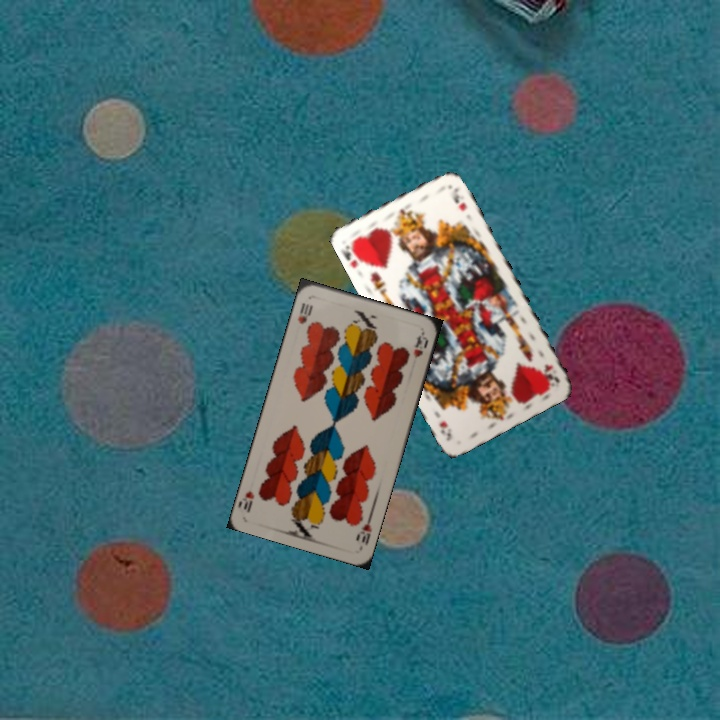H10: (352, 511, 374, 548), (294, 298, 316, 327)
HK: (340, 237, 369, 271), (540, 360, 562, 387)
